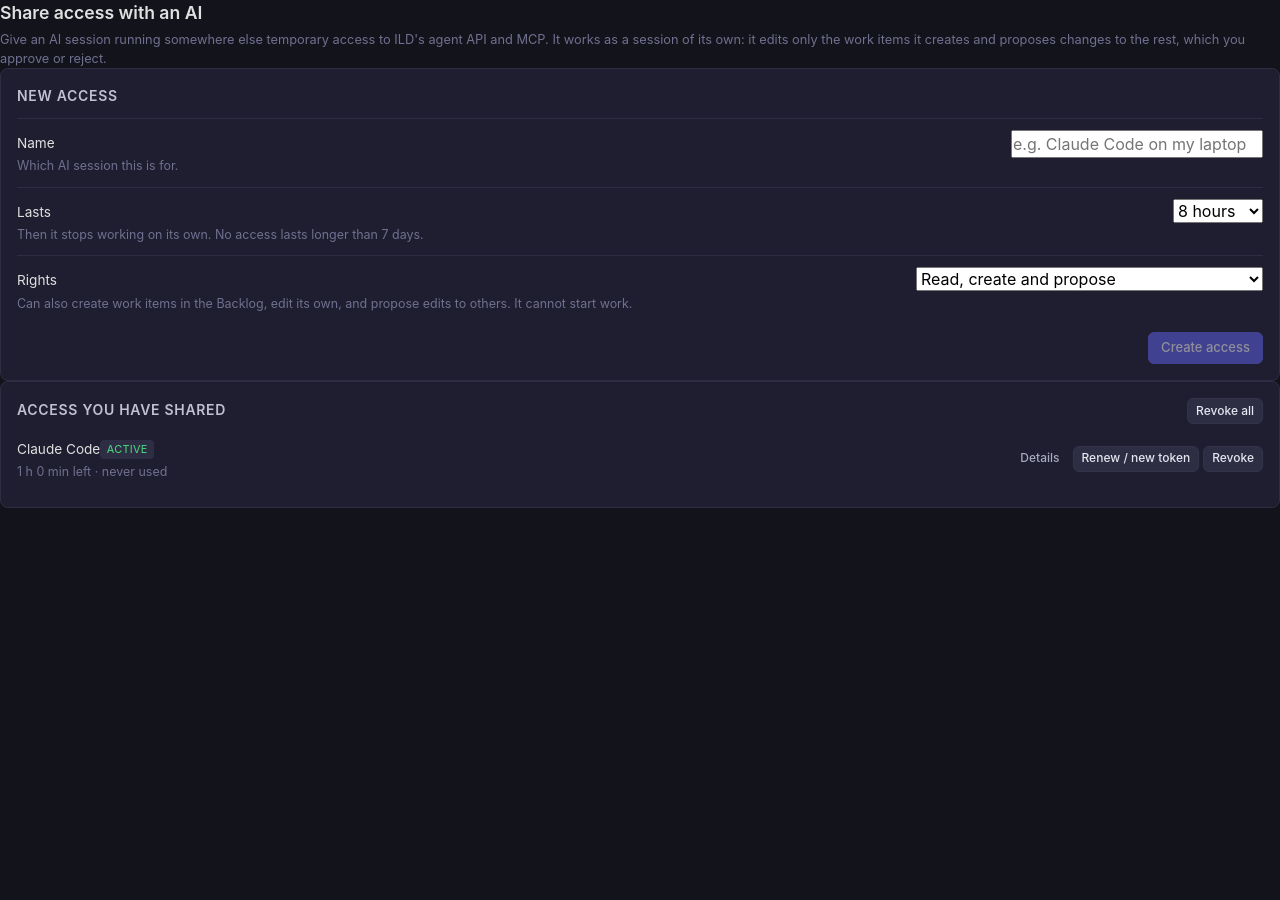
Test: Share access with an AI › cancelling the renewal leaves the grant alone
This screenshot has width=1280, height=900.
Expected: the text "Claude Code" is shown, 17,441 -> 100,457
Click the button with aria-label "Renew Claude Code": (1136, 459) 1072,446 -> 1199,472
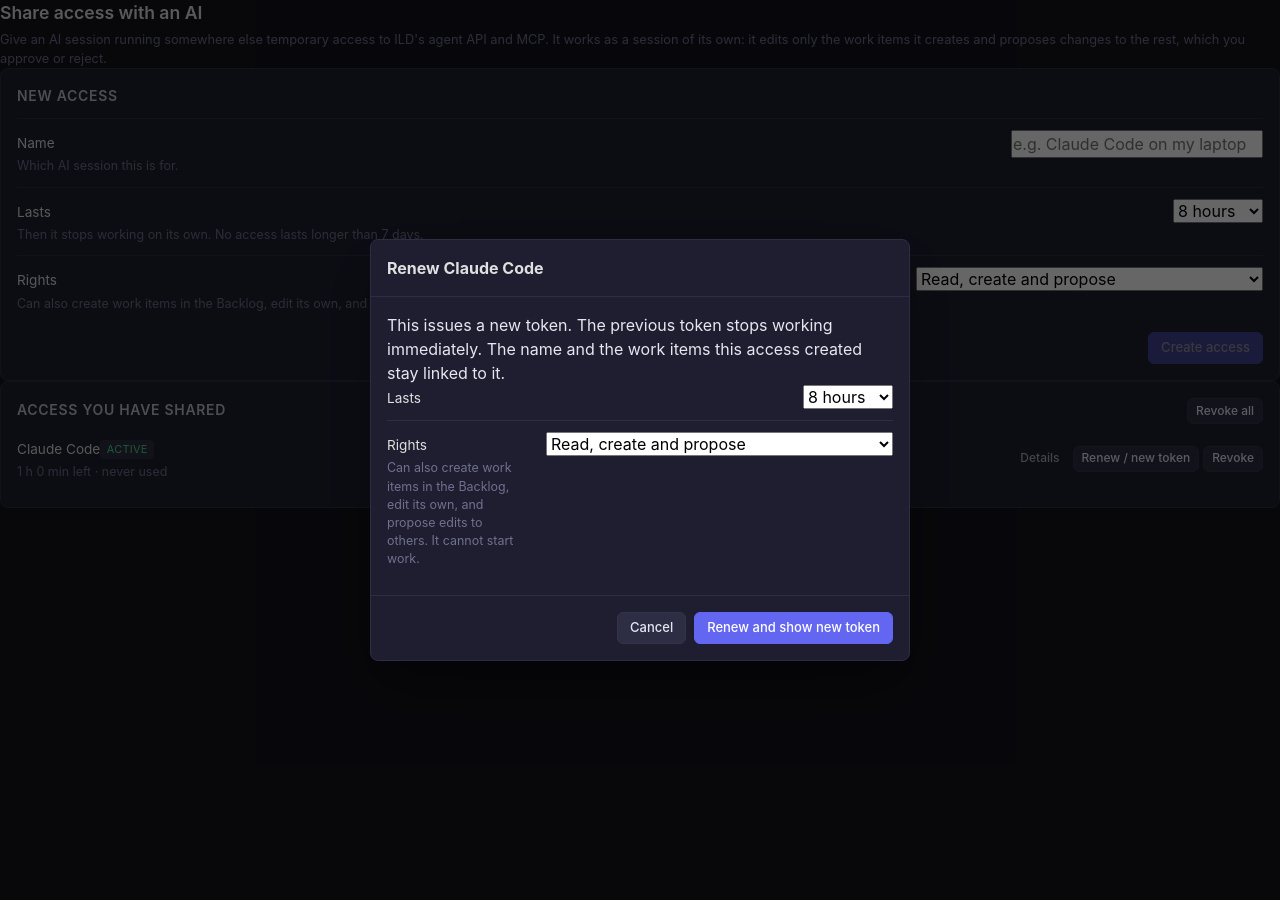
Click the button "Cancel": (652, 628) 617,612 -> 686,644
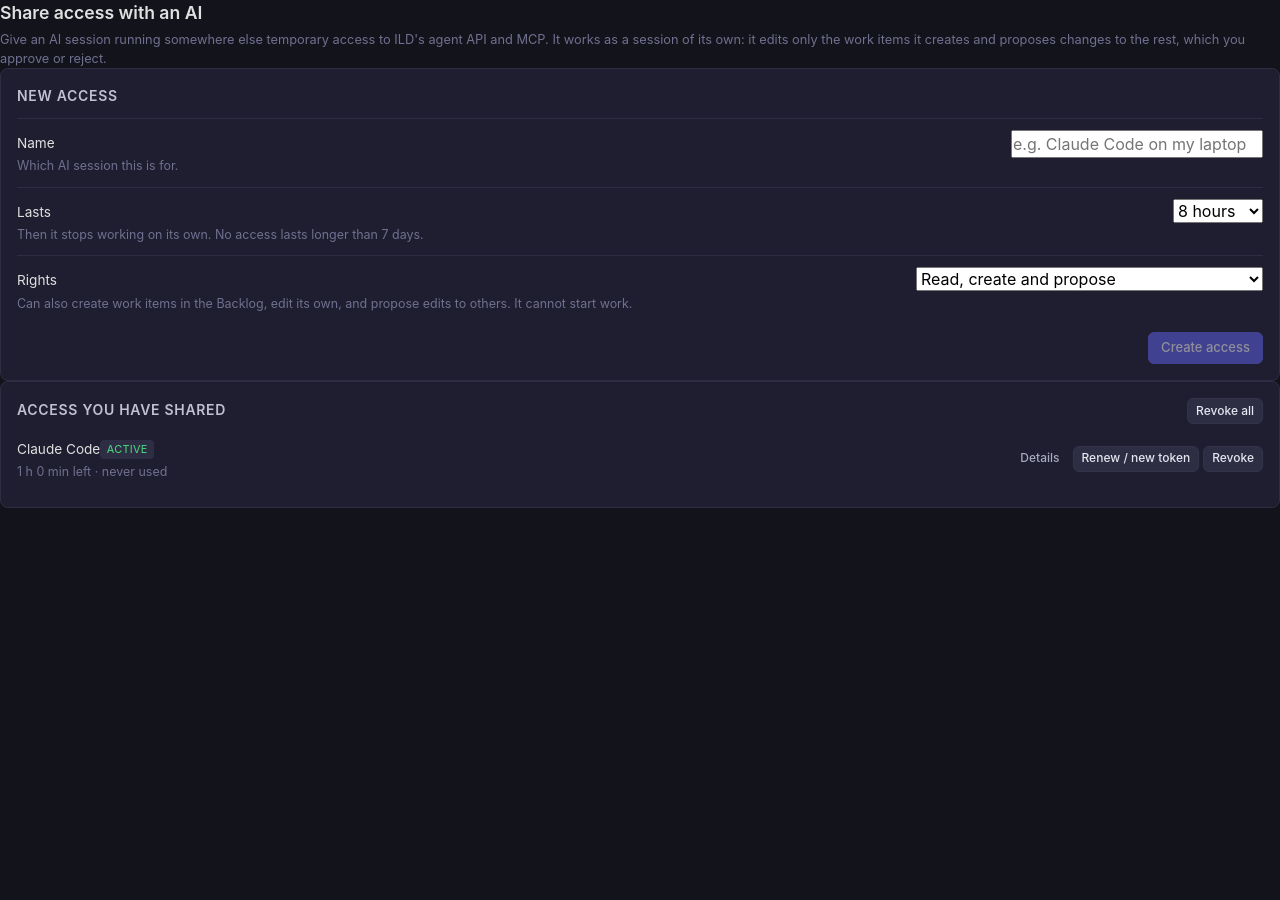
Expected: the dialog is gone
